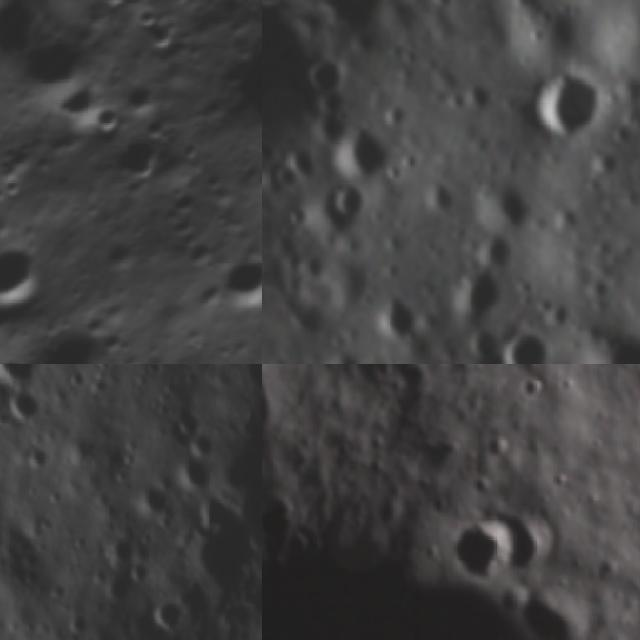crater: (511, 52, 622, 162), (313, 111, 408, 207), (433, 253, 527, 344), (464, 167, 550, 251), (360, 285, 434, 358), (294, 39, 366, 110), (202, 240, 262, 323), (317, 0, 405, 55), (312, 174, 381, 243), (0, 239, 53, 326), (485, 317, 569, 364), (563, 315, 640, 364), (449, 520, 509, 580), (504, 512, 551, 575), (87, 94, 141, 148), (132, 472, 186, 526), (524, 595, 587, 640), (172, 444, 215, 494), (4, 384, 47, 429), (151, 585, 190, 633), (313, 337, 382, 364), (102, 532, 145, 570), (131, 0, 171, 40), (0, 364, 55, 393), (58, 598, 96, 634), (262, 175, 278, 249), (83, 0, 140, 19), (488, 430, 512, 464), (474, 463, 496, 500), (522, 371, 548, 395), (0, 349, 38, 364), (433, 484, 450, 511)
